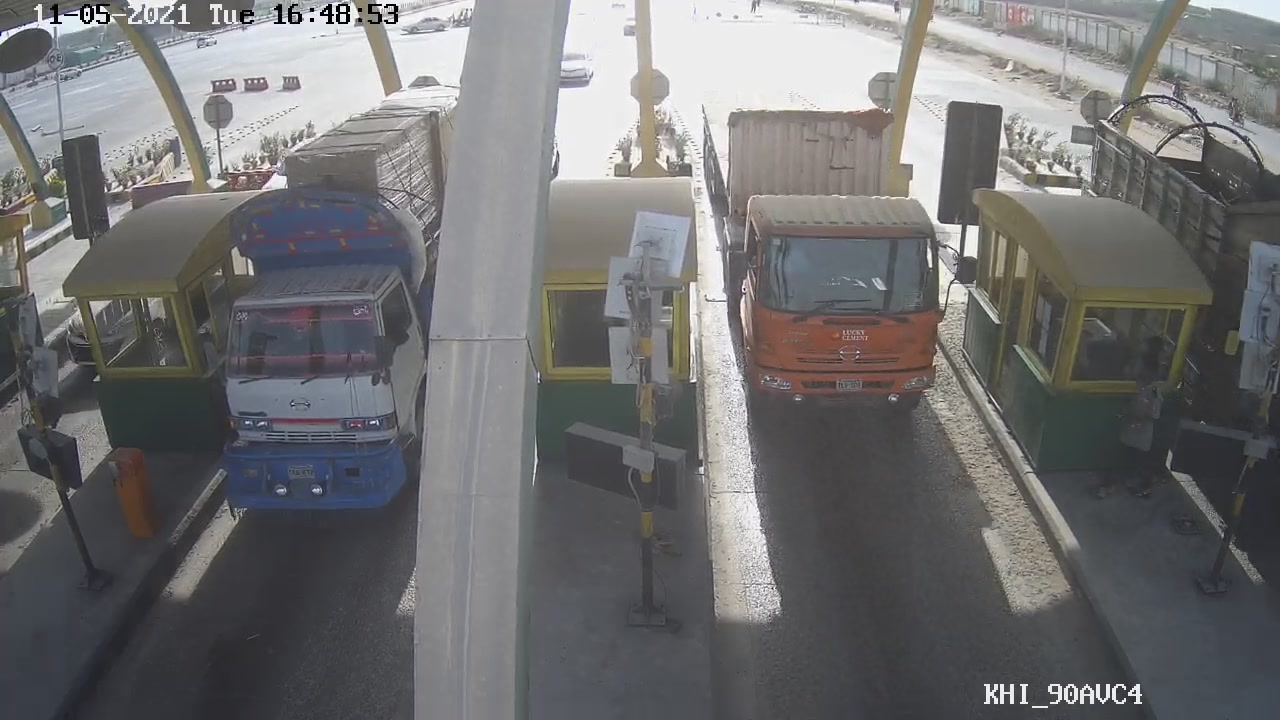F6: (705, 101, 954, 414)
